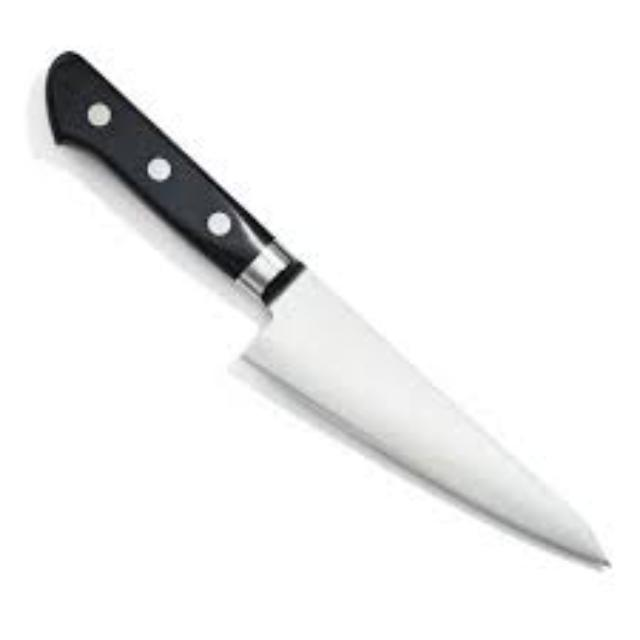knife: (43, 49, 611, 572)
